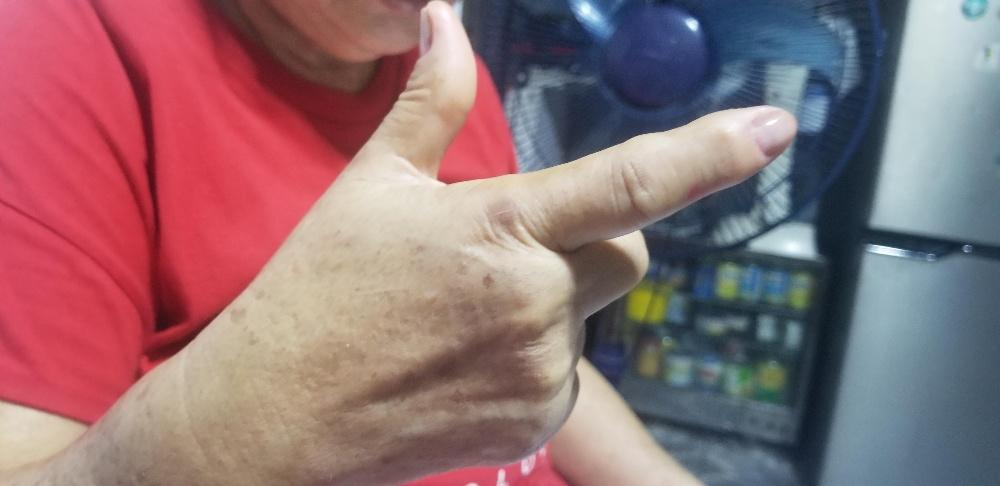g: (273, 0, 800, 485)
